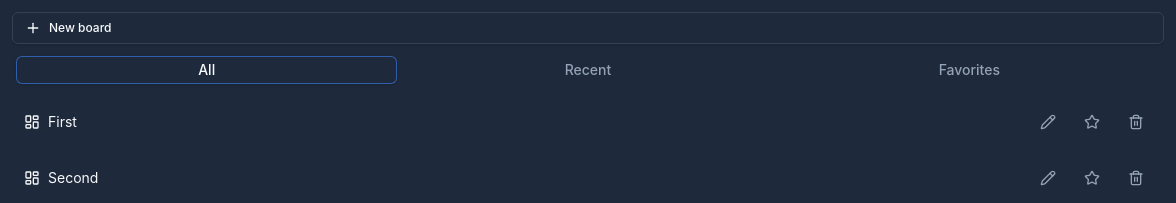
BoardListSidebar › after delete, list is driven by subscription only and deleted board is gone
Click the button with test id "board-list-delete-board-1".
click(1136, 122)  # box [1120,106,1152,138]
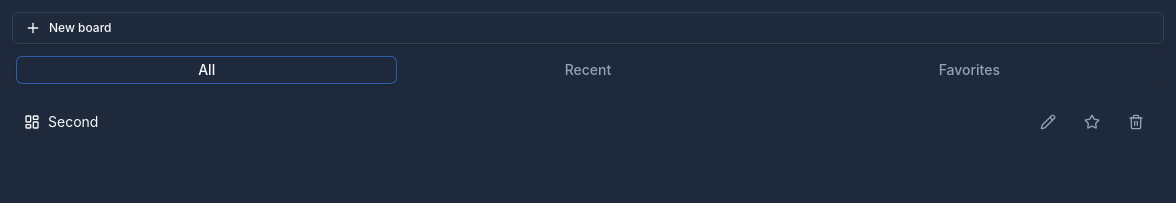
Expected: the button with test id "board-list-item-board-2" is shown, [24,112,1020,132]
Expected: the button with test id "board-list-item-board-1" is gone
